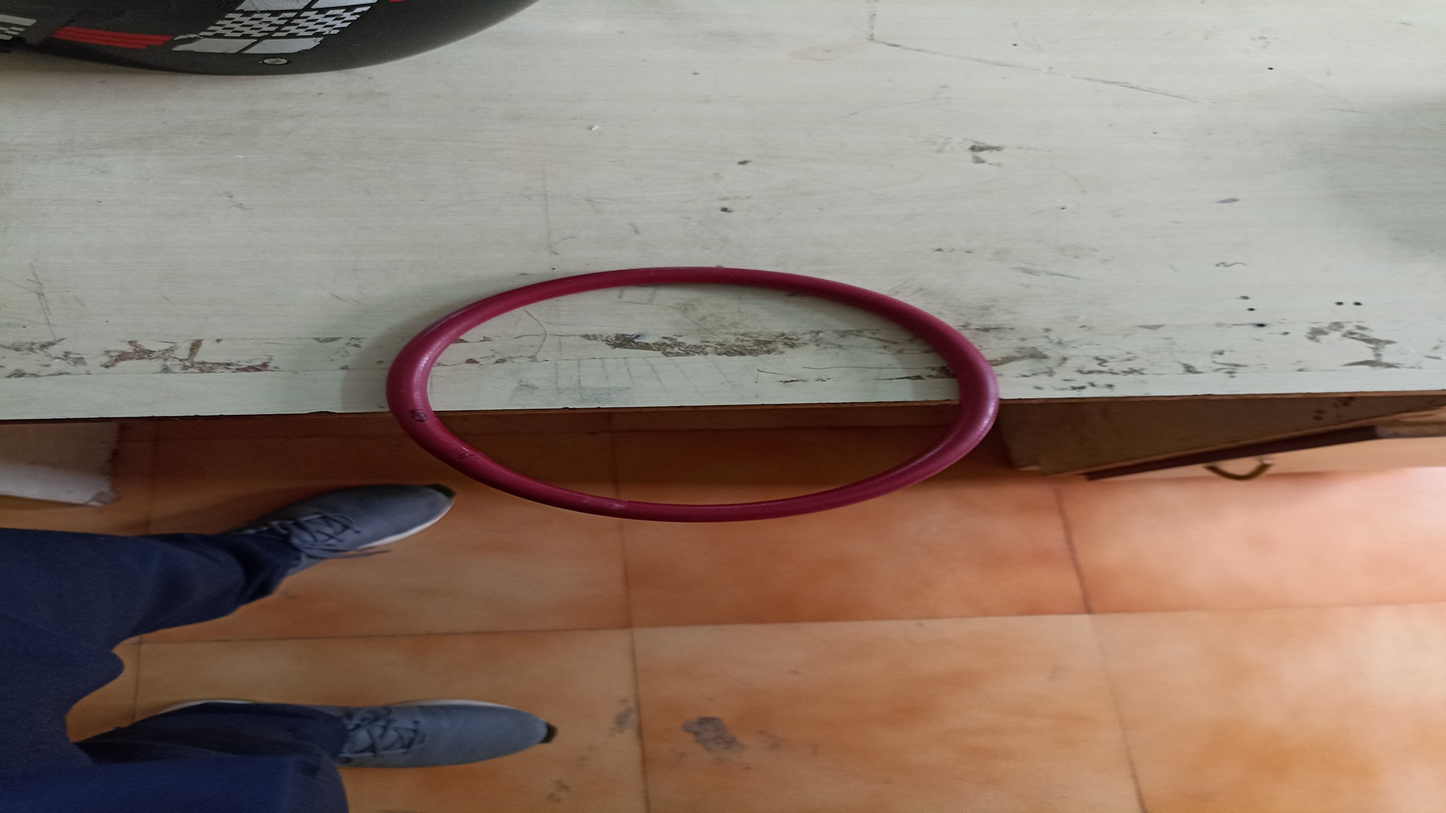Red ring: (385, 265, 1004, 522)
